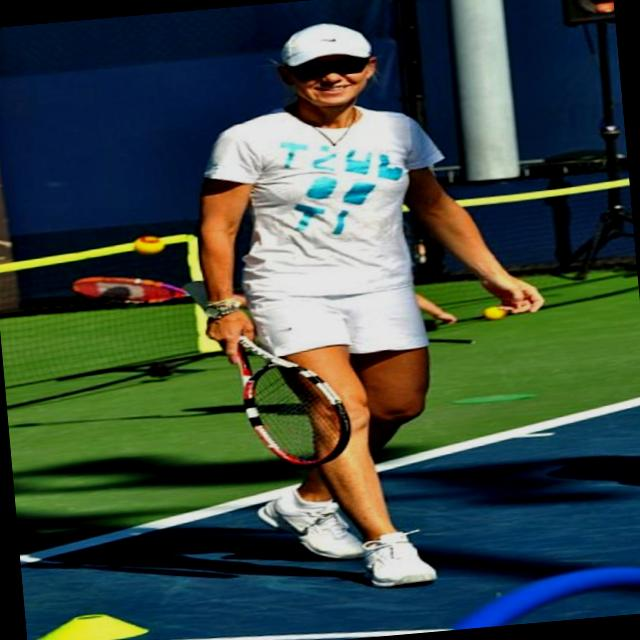Tennis Ball: (486, 306, 506, 320)
